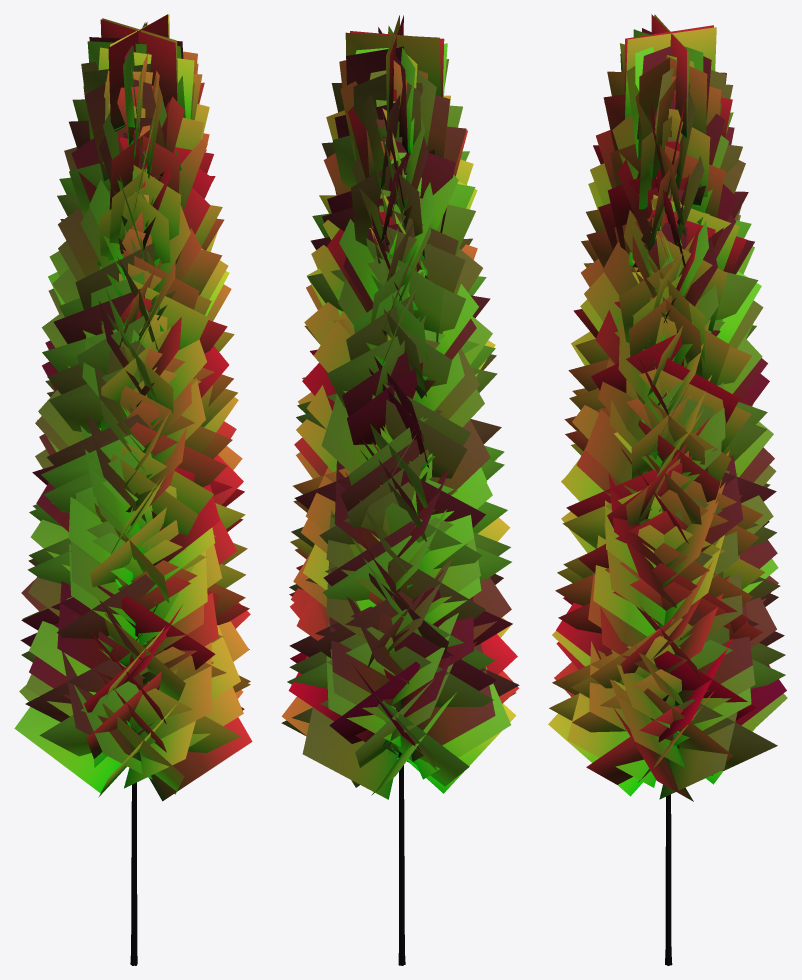
File: URP_P4_Tree_4_LOD_0.fbx
3 renders of one model, left to right at view 1: azimuth 30°, elevation 25°; view 2: azimuth 150°, elevation 25°; view 3: azimuth 270°, elevation 25°, orthographic.
Visible parts, largest first — view 1: Tree_4_LOD_0; view 2: Tree_4_LOD_0; view 3: Tree_4_LOD_0.
Part boxes in pixels (<box>): Tree_4_LOD_0: <box>14,14,252,965</box>; Tree_4_LOD_0: <box>281,15,519,965</box>; Tree_4_LOD_0: <box>548,14,787,965</box>.
Size of the model in its own units: 213 by 917 by 213.
